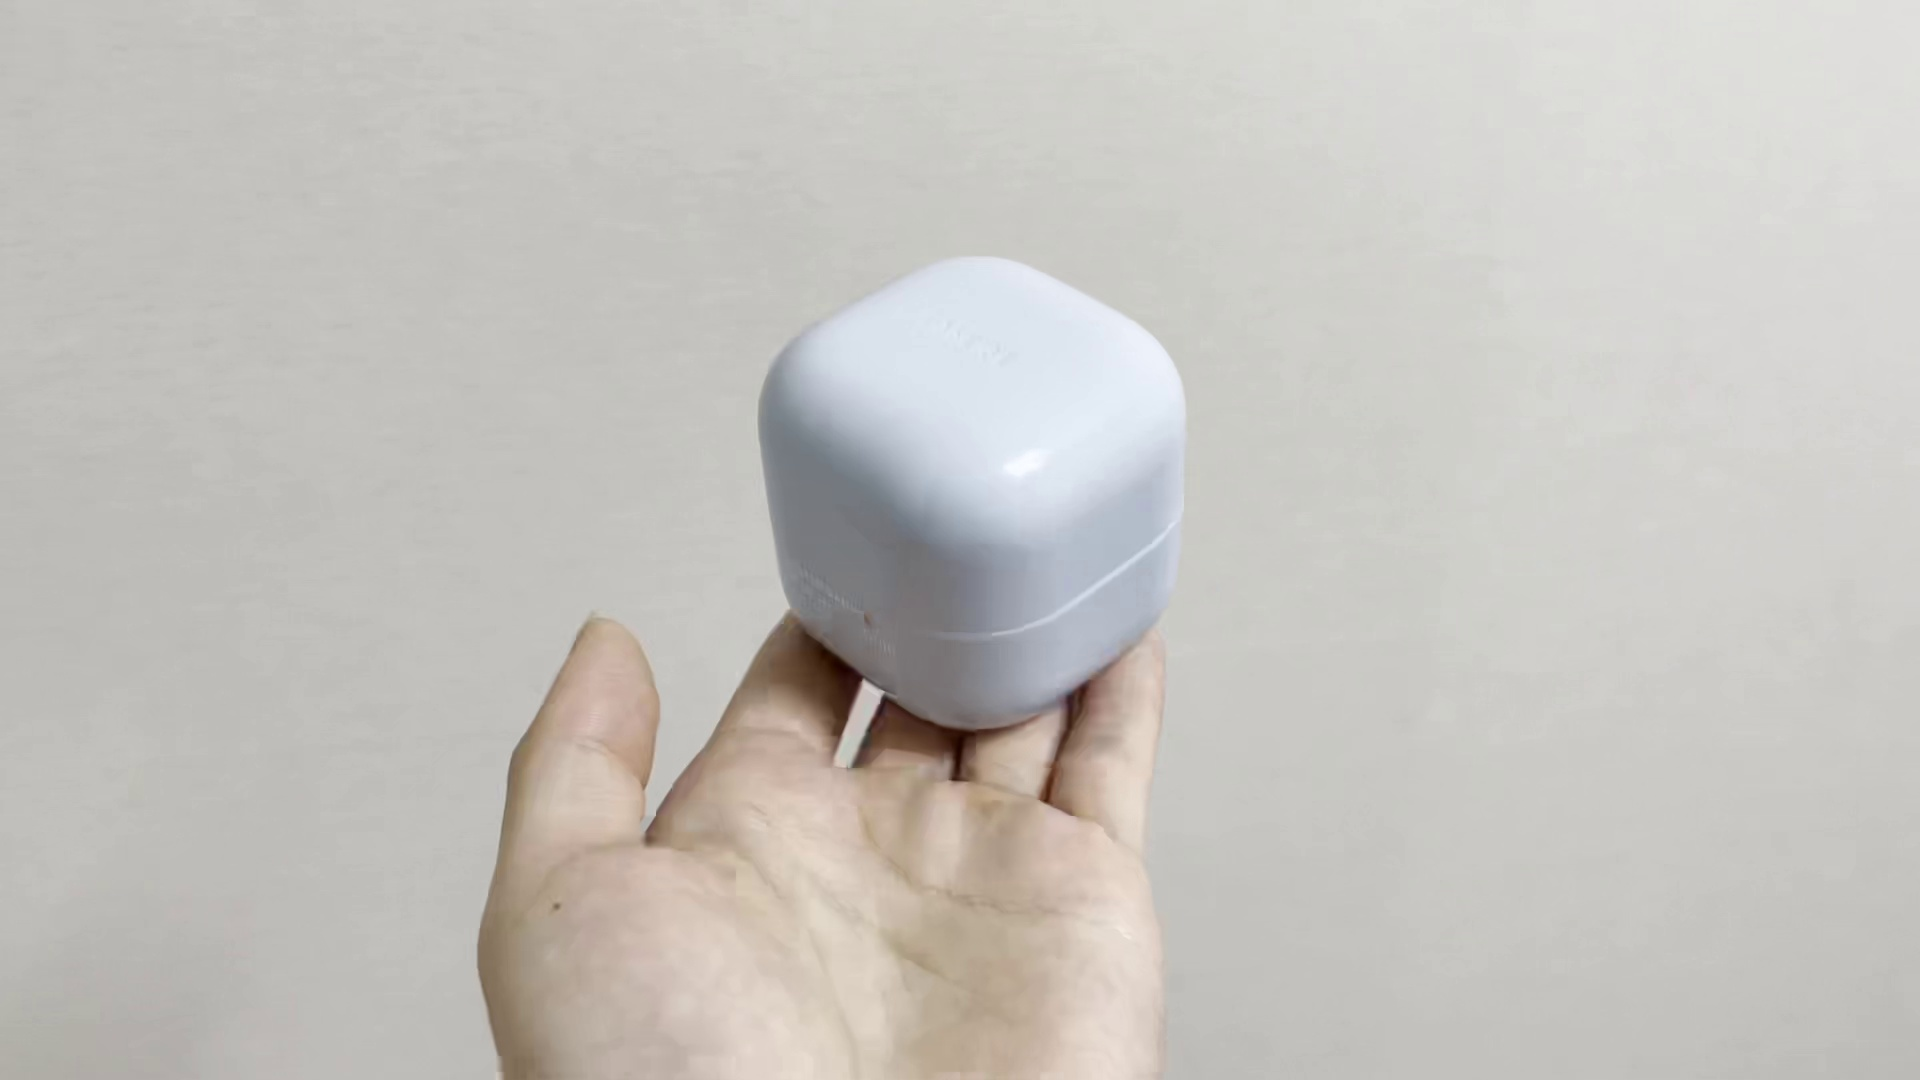cream: (760, 256, 1188, 720)
